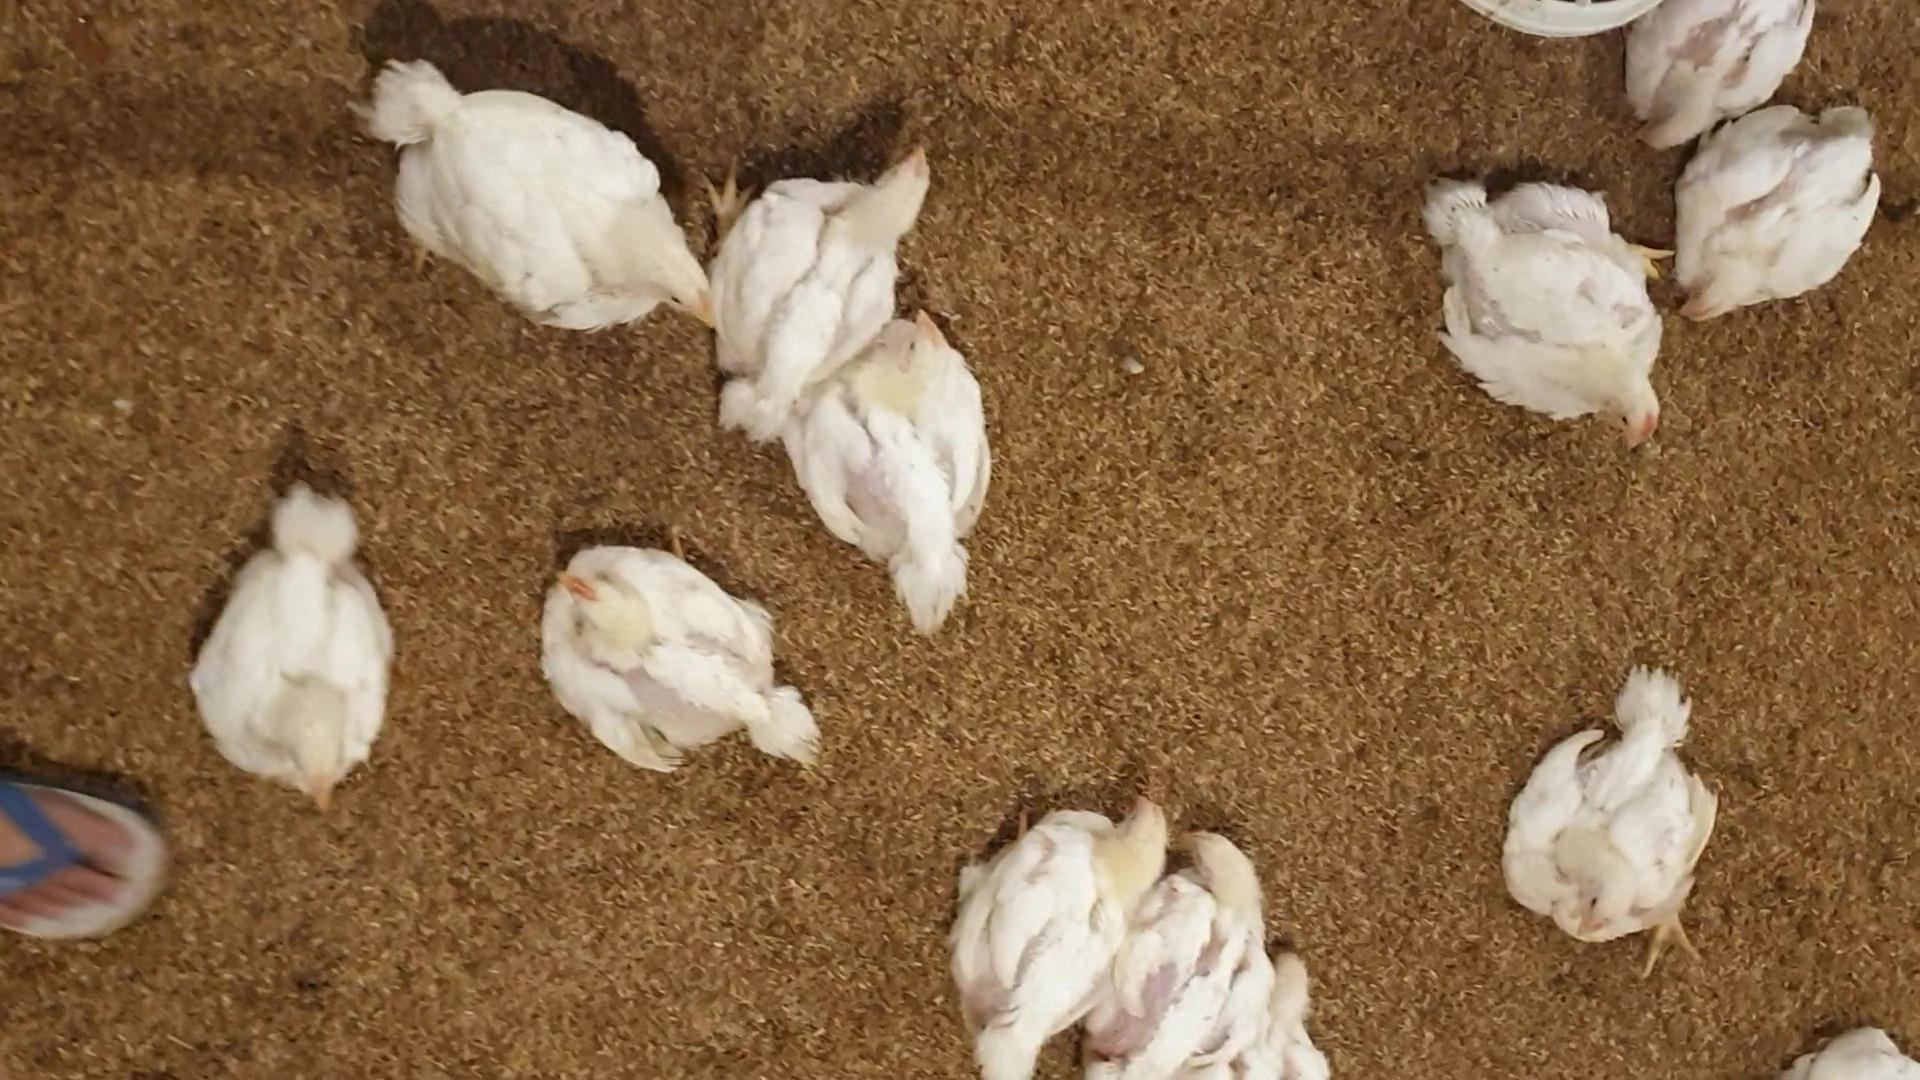Pollos: (360, 47, 713, 332), (179, 481, 406, 807), (1422, 167, 1668, 450), (541, 541, 833, 771), (1502, 651, 1727, 931), (835, 305, 992, 626), (949, 782, 1155, 1025), (1681, 88, 1884, 323), (732, 142, 942, 298), (1156, 818, 1287, 1013)
